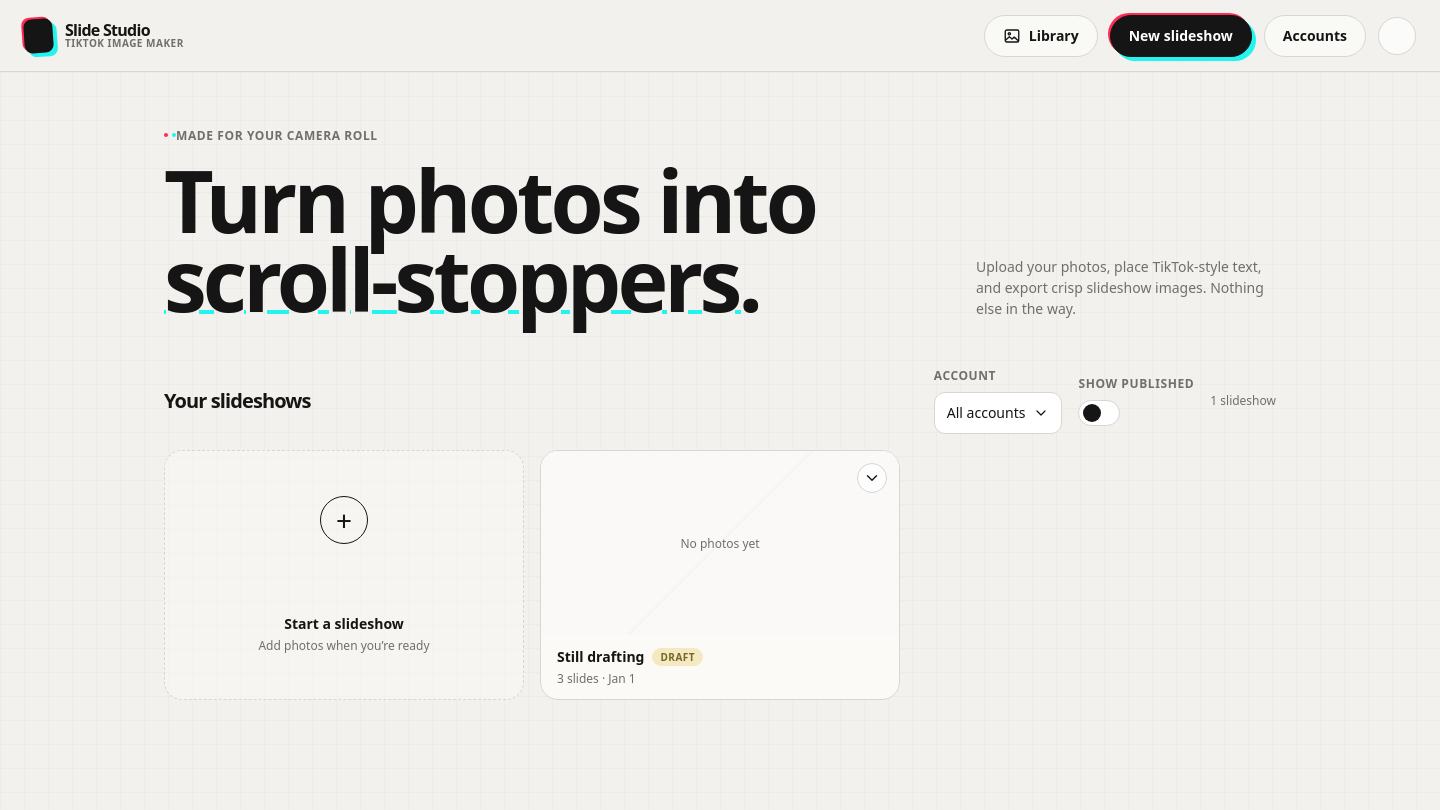
it: hides published slideshows until Show published is ticked
This screenshot has width=1440, height=810.
Expected: the text "Still drafting" is shown, x1=557 y1=647 x2=644 y2=666
Click the switch named "Show published" at coordinates (1099, 413), box x1=1078 y1=400 x2=1120 y2=426
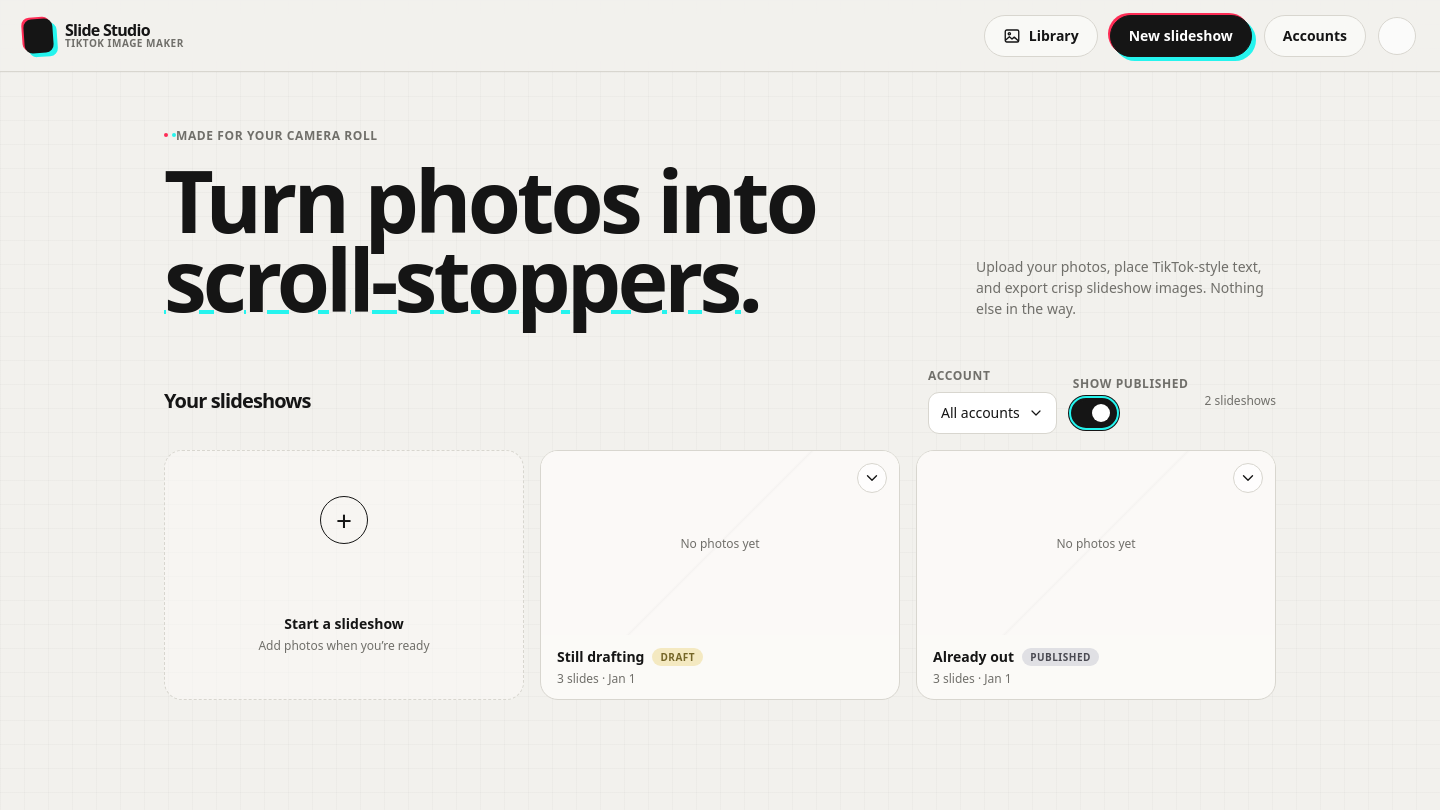
Now the text "Already out" is shown, box x1=933 y1=647 x2=1014 y2=666
